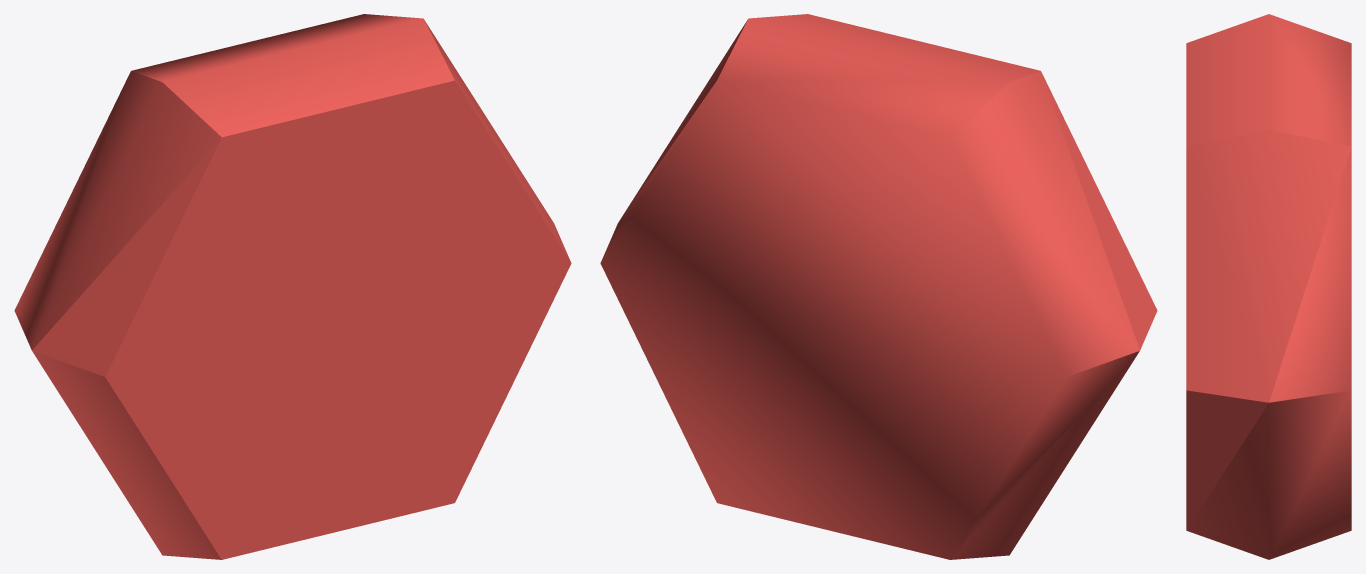
File: pillow.obj
3 views of the same model, side by side, from view 1: azimuth 30°, elevation 25°; view 2: azimuth 150°, elevation 25°; view 3: azimuth 270°, elevation 25° (orthographic). The views are drawn at different scales.
Visible parts, largest first — view 1: stoolBar.009_stoolBar.010; view 2: stoolBar.009_stoolBar.010; view 3: stoolBar.009_stoolBar.010.
Part boxes in pixels (x1,y1,x2,y2): stoolBar.009_stoolBar.010: [14, 14, 571, 559]; stoolBar.009_stoolBar.010: [600, 14, 1157, 559]; stoolBar.009_stoolBar.010: [1186, 14, 1351, 559].
Size of the model in its own units: 0.2654 by 0.2299 by 0.08.
